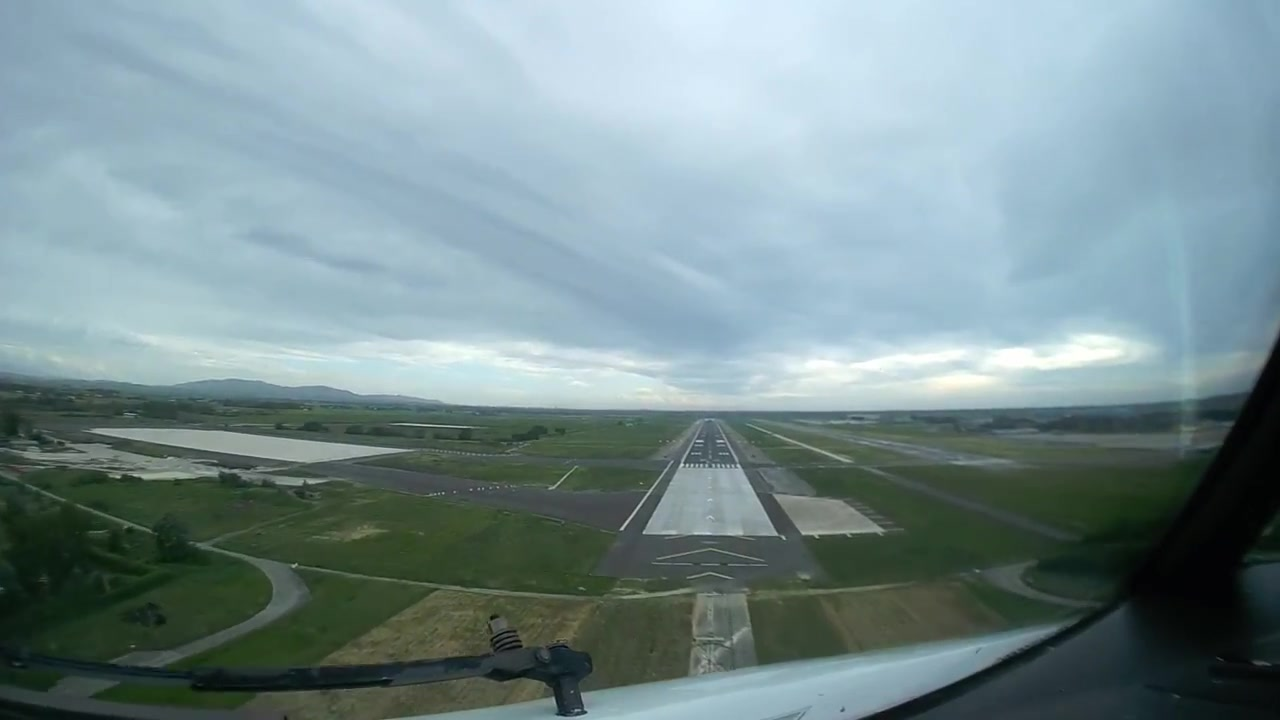entrance: (680, 461, 740, 470)
runway: (678, 415, 745, 472)
